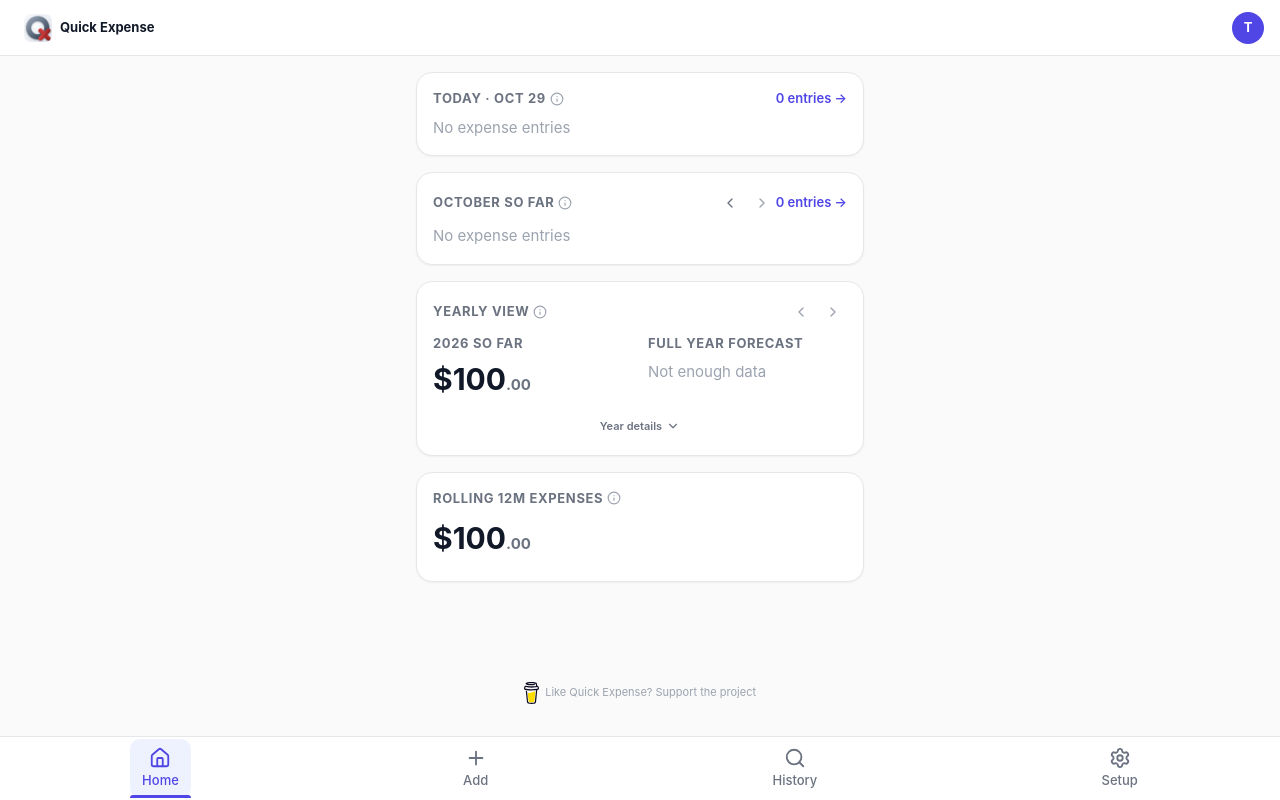
it: HomePage — Year details expand › shows the Year details toggle and renders the bar chart + average when the current year has data
This screenshot has width=1280, height=800.
Click the button "Year details" at (640,426), box [433,414,847,438]
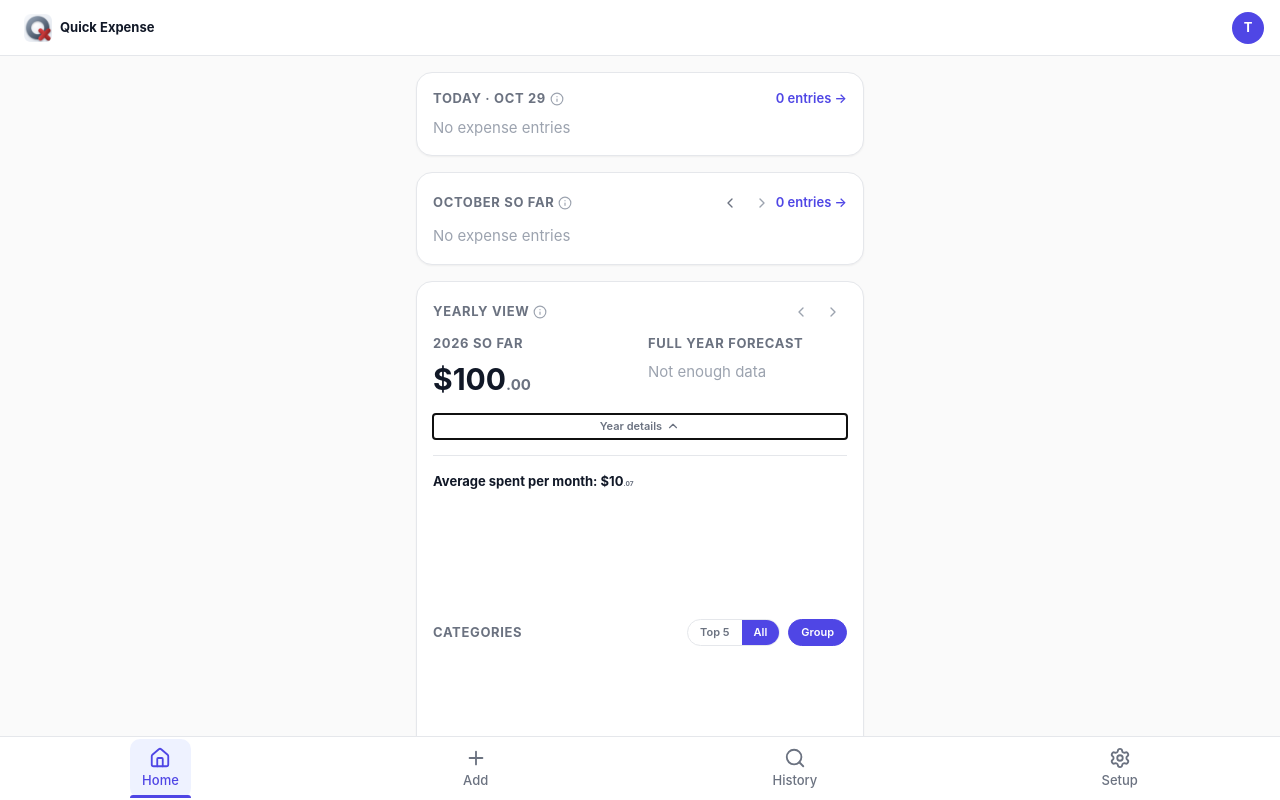
Expected: the text "Average spent per month: $10.07" is shown, [433,472,634,488]
